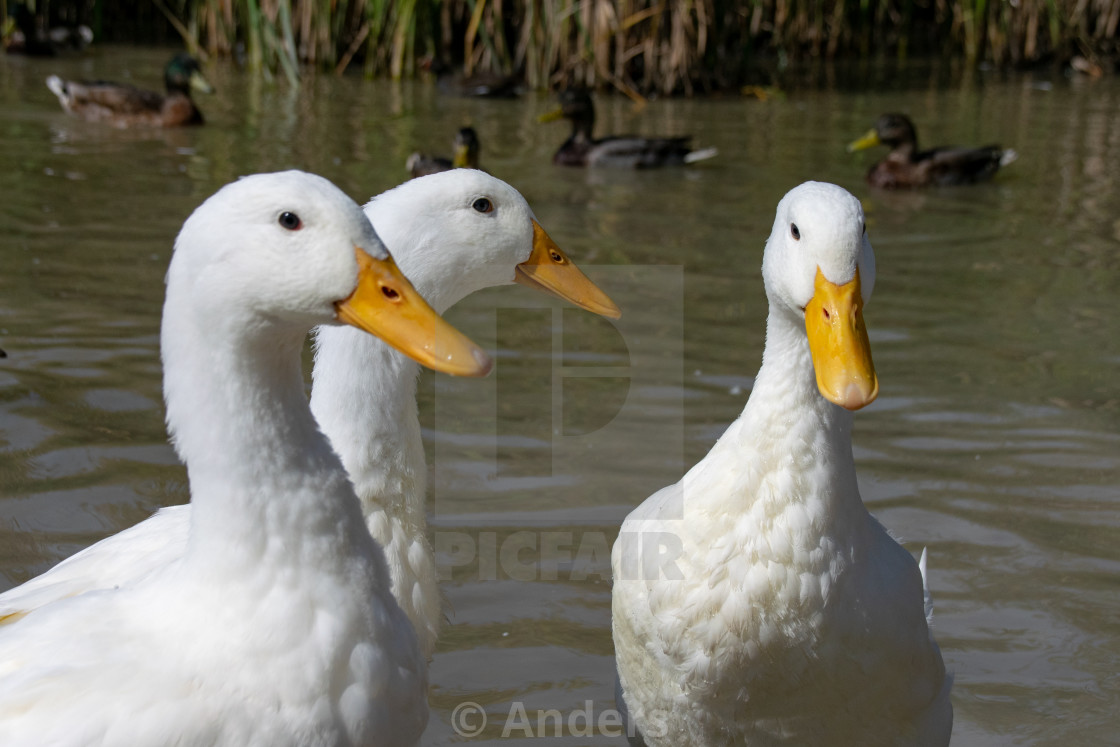Mencari Makan di Lumpur: (324, 240, 497, 391), (514, 222, 630, 327), (807, 266, 885, 421)
